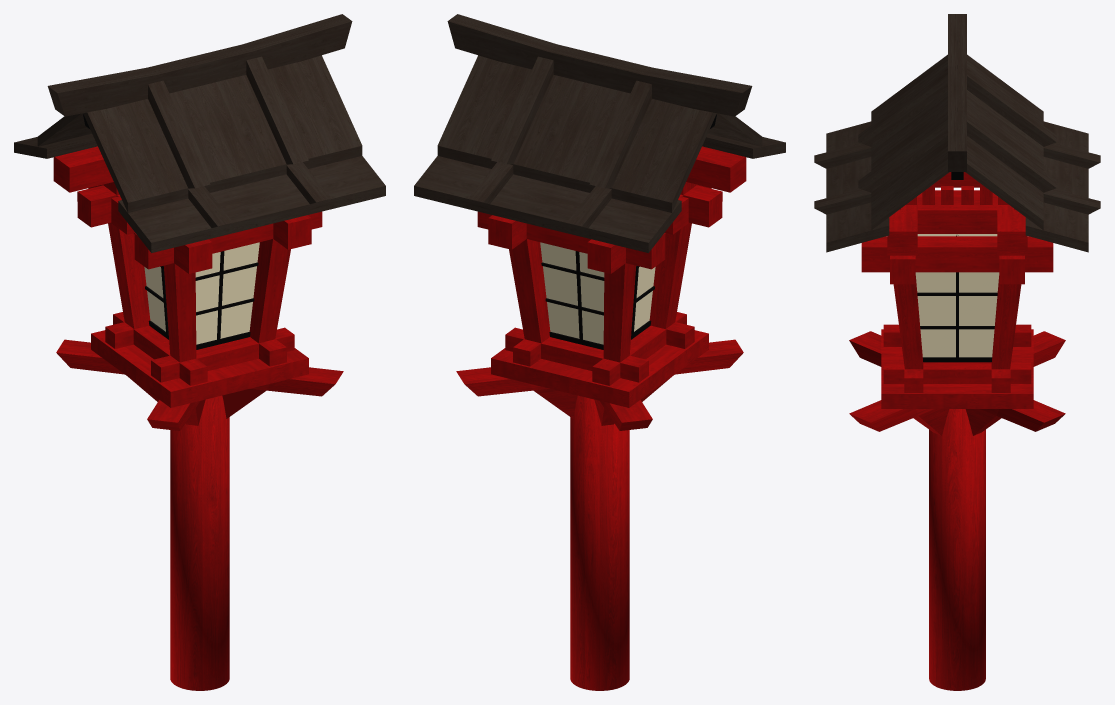
Rendered from lamp.fbx.
3 renders of one model, left to right at view 1: azimuth 30°, elevation 25°; view 2: azimuth 150°, elevation 25°; view 3: azimuth 270°, elevation 25°, orthographic. The views are drawn at different scales.
Visible parts, largest first — view 1: R1, S2, B1, R2, S1, B4, B3, S3, B5, B2; view 2: R1, S2, B1, R2, S1, B4, B3, S3, B5, B2; view 3: R1, S2, B1, B4, B5, S3, S1, B3, R2, B2, R4.
Boxes of the visible parts, x1,y1,x2,y2 form: R1: [14, 48, 385, 252]; S2: [170, 395, 229, 690]; B1: [108, 222, 290, 362]; R2: [47, 14, 352, 116]; S1: [91, 330, 308, 407]; B4: [77, 182, 322, 273]; B3: [105, 312, 294, 385]; S3: [56, 339, 343, 430]; B5: [53, 146, 135, 234]; B2: [145, 251, 258, 349]; R1: [414, 48, 785, 252]; S2: [570, 395, 629, 690]; B1: [509, 222, 691, 362]; R2: [447, 14, 752, 116]; S1: [491, 330, 708, 407]; B4: [477, 182, 722, 273]; B3: [505, 312, 694, 385]; S3: [456, 339, 743, 430]; B5: [664, 146, 746, 234]; B2: [541, 251, 654, 349]; R1: [814, 54, 1100, 252]; S2: [929, 409, 985, 690]; B1: [893, 234, 1021, 369]; B4: [861, 190, 1053, 284]; B5: [887, 172, 1027, 255]; S3: [849, 331, 1065, 435]; S1: [881, 329, 1033, 408]; B3: [883, 324, 1031, 392]; R2: [948, 14, 966, 171]; B2: [917, 235, 997, 362]; R4: [906, 183, 1008, 204].
Size of the model in its own units: 618 by 1252 by 544.
15 materials, 11 textured.
